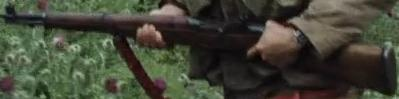gun: (1, 1, 399, 99)
